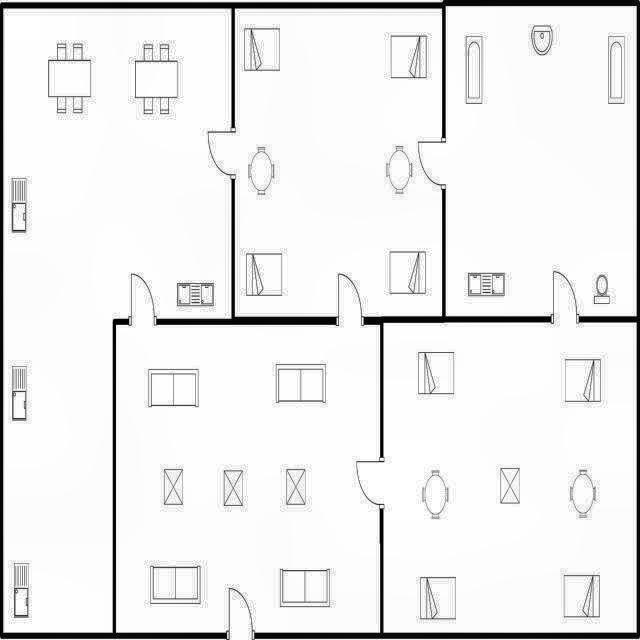room: (3, 8, 232, 633), (116, 325, 380, 633), (383, 322, 637, 633), (235, 8, 442, 317), (446, 6, 637, 316)
